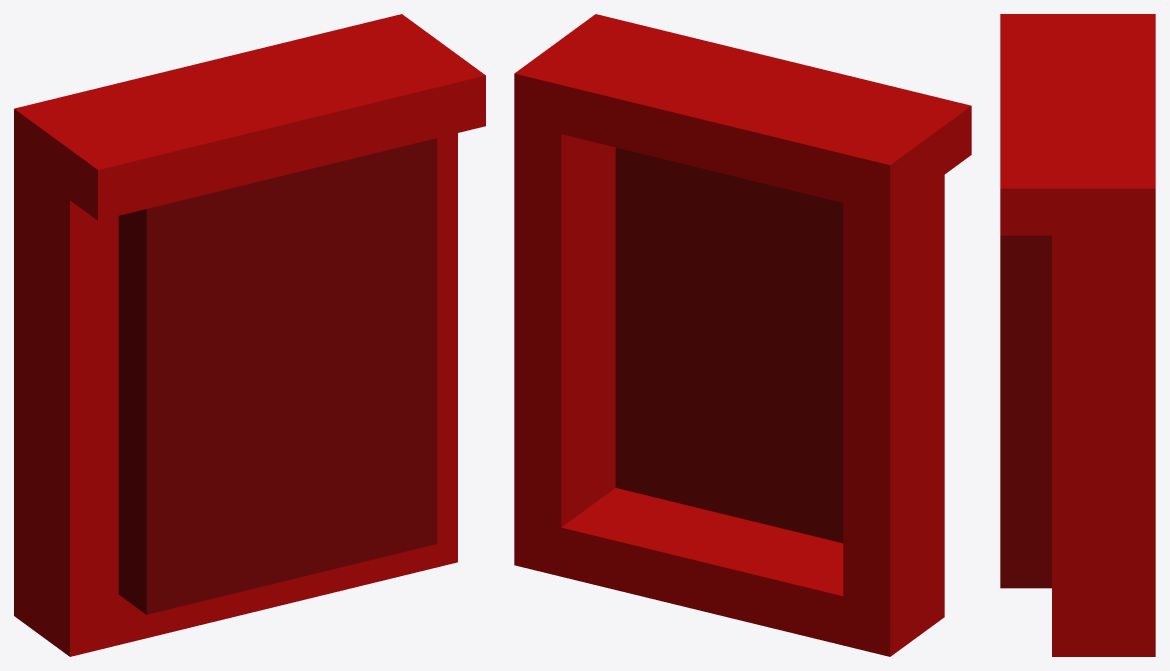
The model's file is shipDoor.dae.
3 renders of one model, left to right at view 1: azimuth 30°, elevation 25°; view 2: azimuth 150°, elevation 25°; view 3: azimuth 270°, elevation 25°, orthographic. The views are drawn at different scales.
Visible parts, largest first — view 1: node; view 2: node; view 3: node.
Boxes of the visible parts, x1,y1,x2,y2 form: node: [14, 14, 485, 656]; node: [514, 14, 971, 656]; node: [1000, 14, 1155, 656].
Bounding box in the file's own units: 0.8 × 1 × 0.3.
